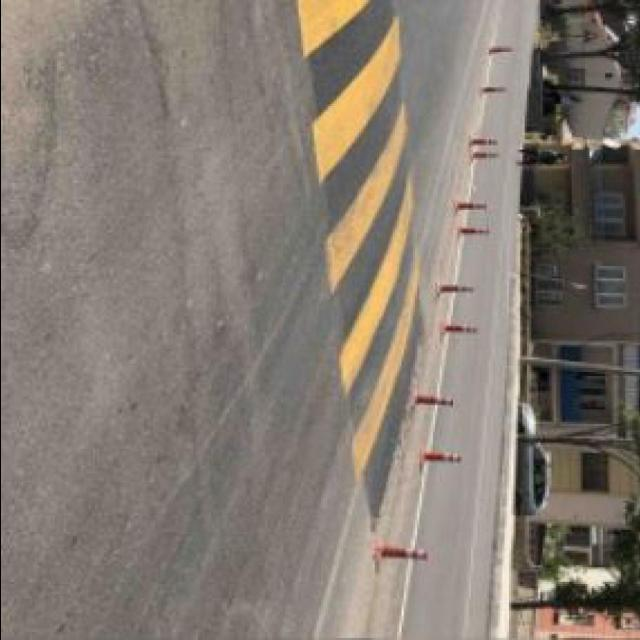speedbreaker: (286, 1, 426, 390)
